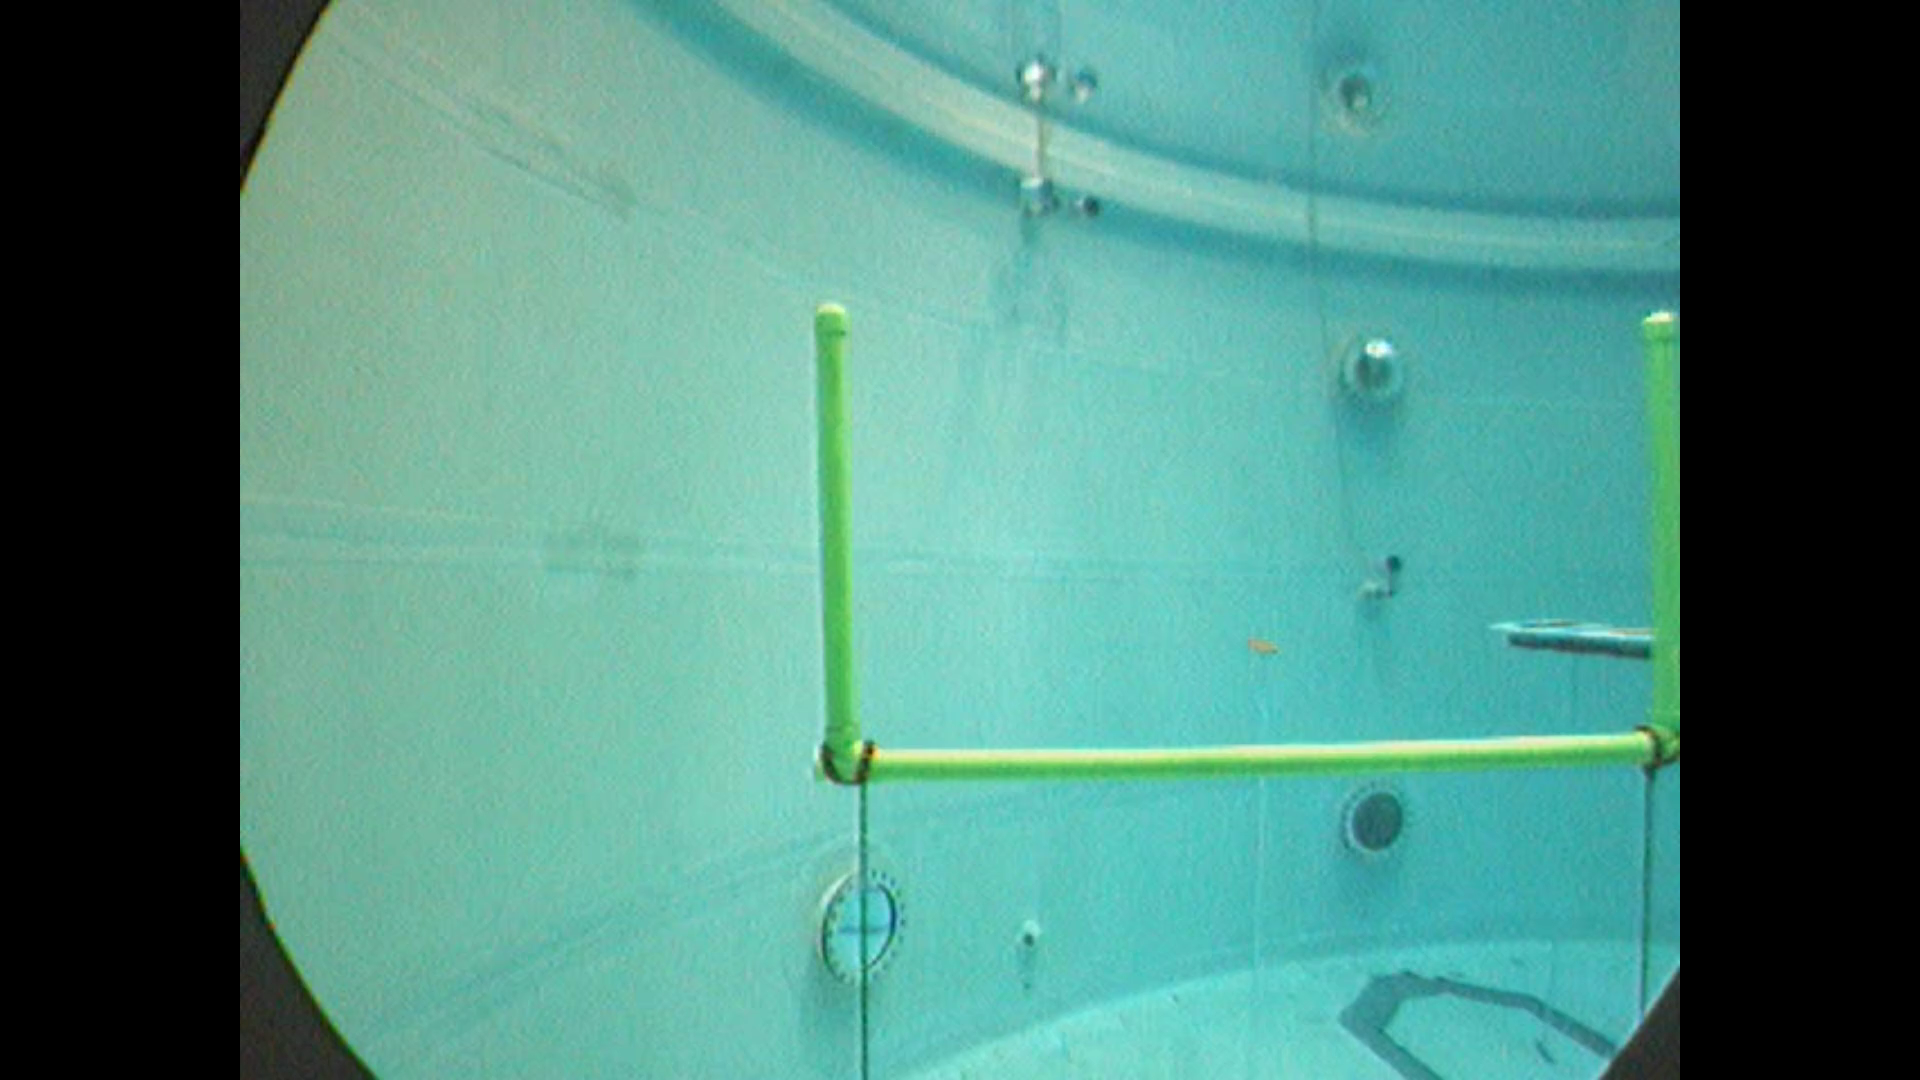gate: (808, 295, 1681, 785)
